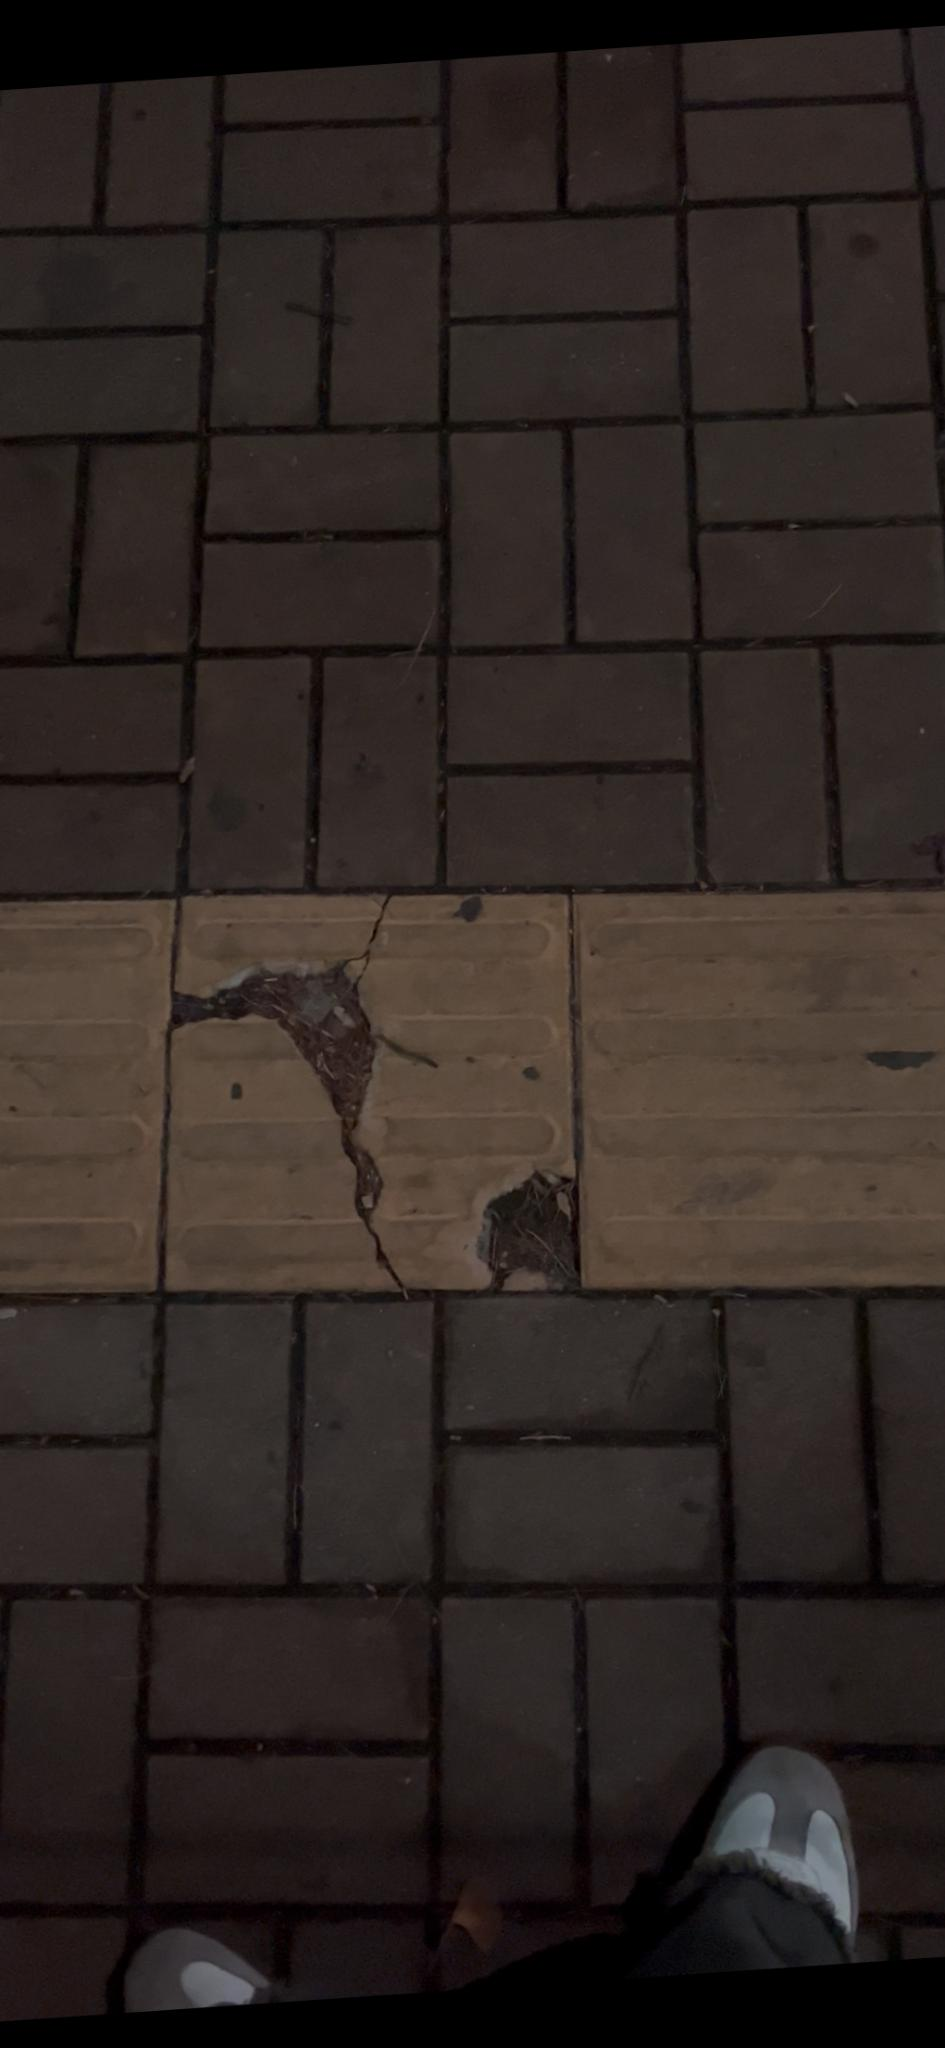Straight block broken: (166, 900, 578, 1288)
